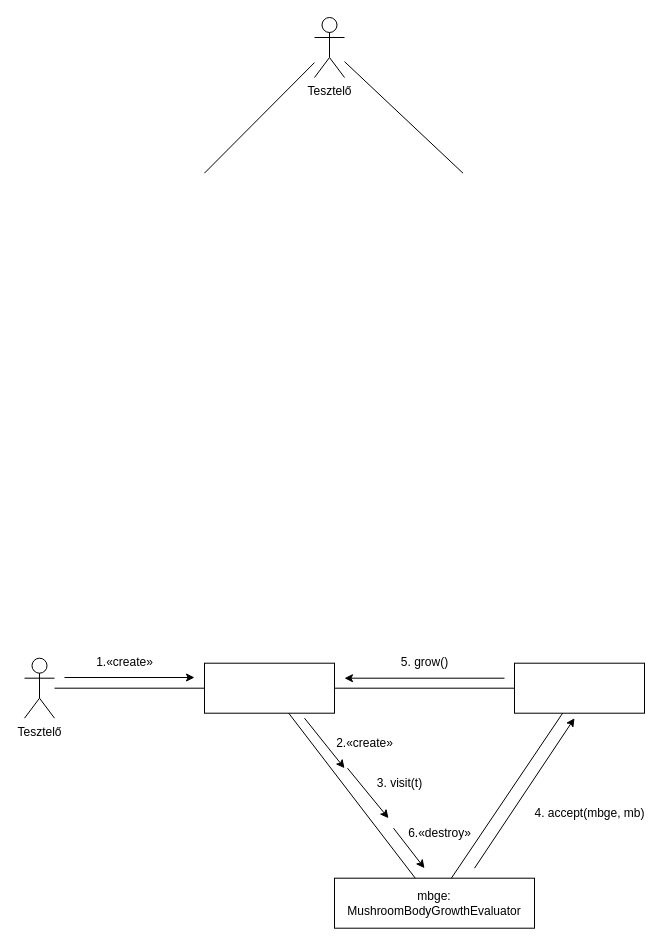
The diagram is 671 pixels wide and 946 high, and some of its shapes have lost their labels. The centre of each missing label's shape, as x and y in pixels:
mb: MushroomBody: point (269, 687)
t: Arid Tecton: point (579, 687)
